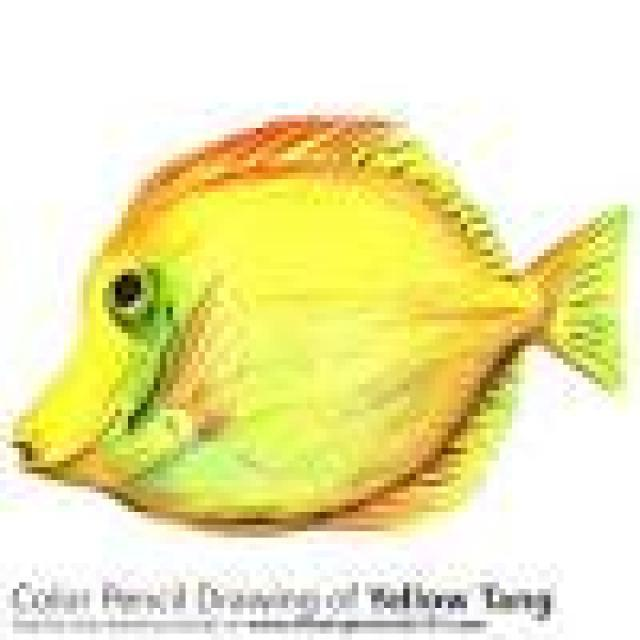YellowTang: (13, 104, 628, 544)
